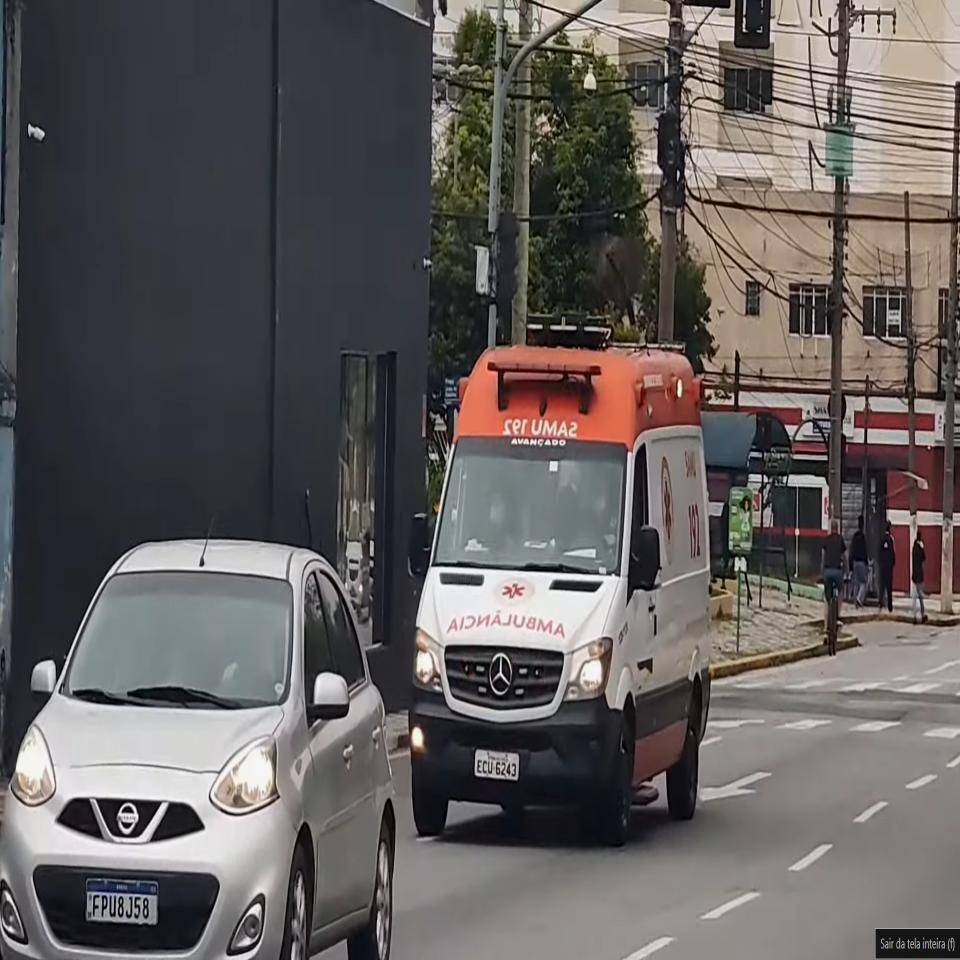ambulancia: (408, 338, 716, 853)
